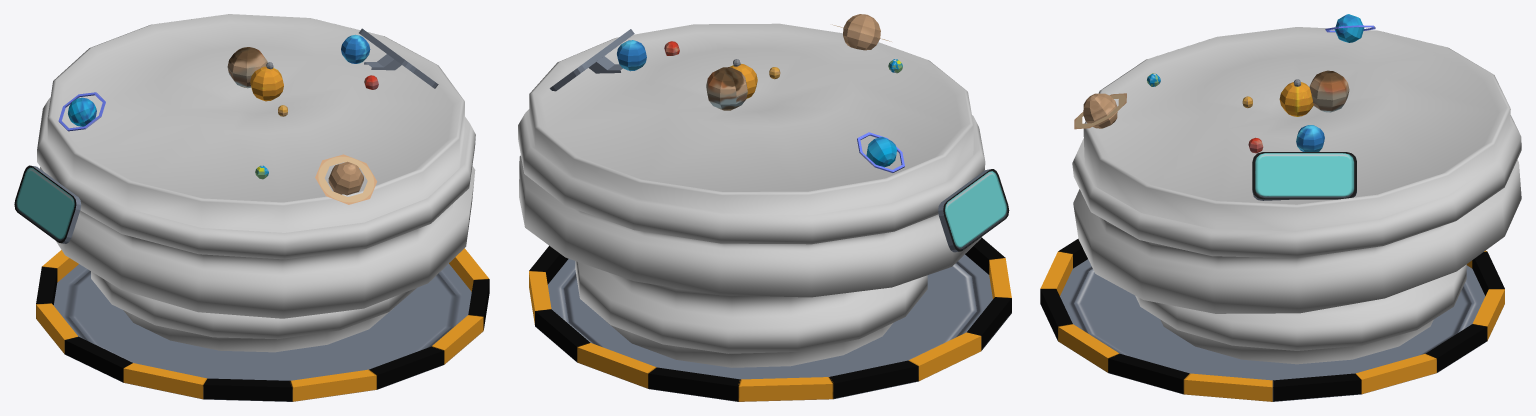
Rendered from Main Deck_Wreck.dae.
3 views of the same model, side by side, from view 1: azimuth 30°, elevation 25°; view 2: azimuth 150°, elevation 25°; view 3: azimuth 270°, elevation 25° (orthographic). The views are drawn at different scales.
Parts seen in each view (by area): view 1: Sphere.002, Sphere.001, Sphere.003, Sphere.005, Sphere.008, Sphere.007, Sphere.006; view 2: Sphere.002, Sphere.001, Sphere.008, Sphere.003, Sphere.005, Sphere.006; view 3: Sphere.002, Sphere.001, Sphere.003, Sphere.008, Sphere.007, Sphere.005, Sphere.006.
Boxes of the visible parts, left/top/right/bottom form: Sphere.002: left=37, top=14, right=475, bottom=352; Sphere.001: left=14, top=28, right=489, bottom=401; Sphere.003: left=315, top=154, right=377, bottom=204; Sphere.005: left=58, top=92, right=105, bottom=131; Sphere.008: left=227, top=47, right=267, bottom=88; Sphere.007: left=250, top=66, right=283, bottom=101; Sphere.006: left=341, top=34, right=370, bottom=63; Sphere.002: left=518, top=23, right=985, bottom=367; Sphere.001: left=529, top=29, right=1011, bottom=401; Sphere.008: left=706, top=67, right=747, bottom=110; Sphere.003: left=832, top=14, right=891, bottom=50; Sphere.005: left=857, top=132, right=904, bottom=172; Sphere.006: left=617, top=40, right=646, bottom=71; Sphere.002: left=1072, top=27, right=1521, bottom=364; Sphere.001: left=1040, top=152, right=1504, bottom=401; Sphere.003: left=1074, top=93, right=1126, bottom=129; Sphere.008: left=1309, top=70, right=1349, bottom=112; Sphere.007: left=1279, top=82, right=1313, bottom=116; Sphere.005: left=1325, top=14, right=1375, bottom=42; Sphere.006: left=1296, top=125, right=1324, bottom=151.
Bounding box in the file's own units: 2.25 × 2.24 × 1.22.
